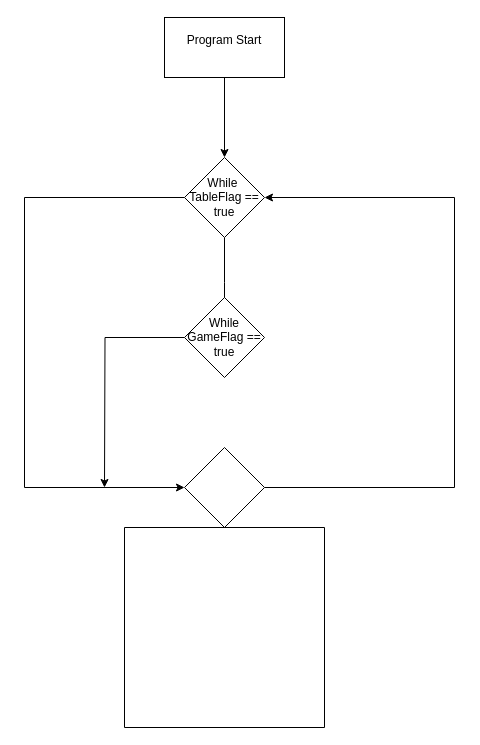
The diagram is 480 pixels wide and 745 high, and some of its shapes have lost their labels. Each missing label, with the centre of its shape:
"Text" goes at [224,627].
"While RoundFlag == true" goes at [224,487].
